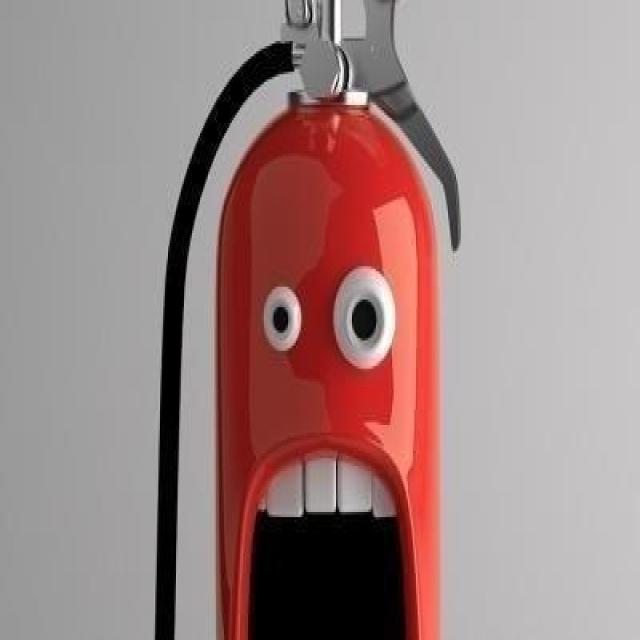fire_extinguisher: (146, 0, 469, 637)
